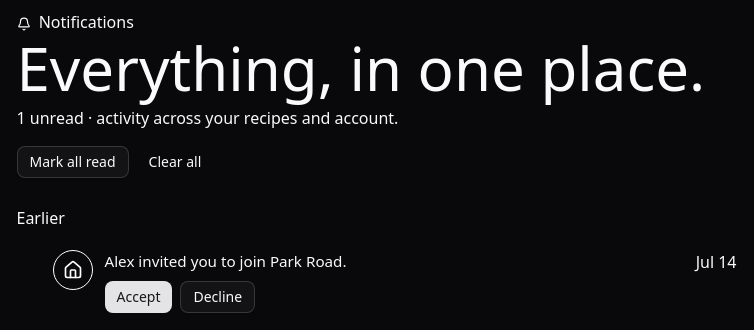
Test: NotificationsView › keeps an accepted invitation as a read, resolved notification
The width and height of the screenshot is (754, 330).
Click the button "Accept" at (138, 297), box [104,281,172,313]
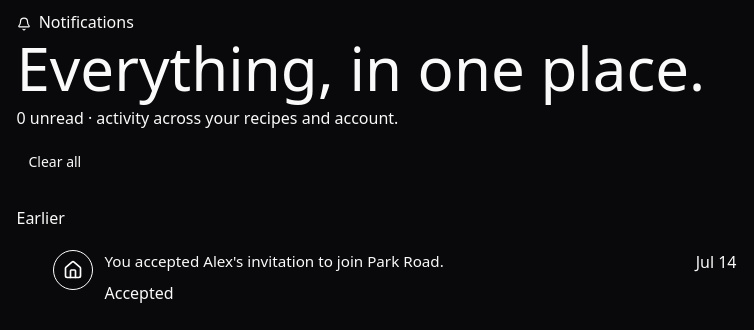
Result: the text "You accepted Alex's invitation to join Park Road." is shown at [104,251,444,271]
Result: the text "accepted" is shown at [104,282,174,304]
Result: the text "0 unread · activity across your recipes and account." is shown at [16,107,398,129]
